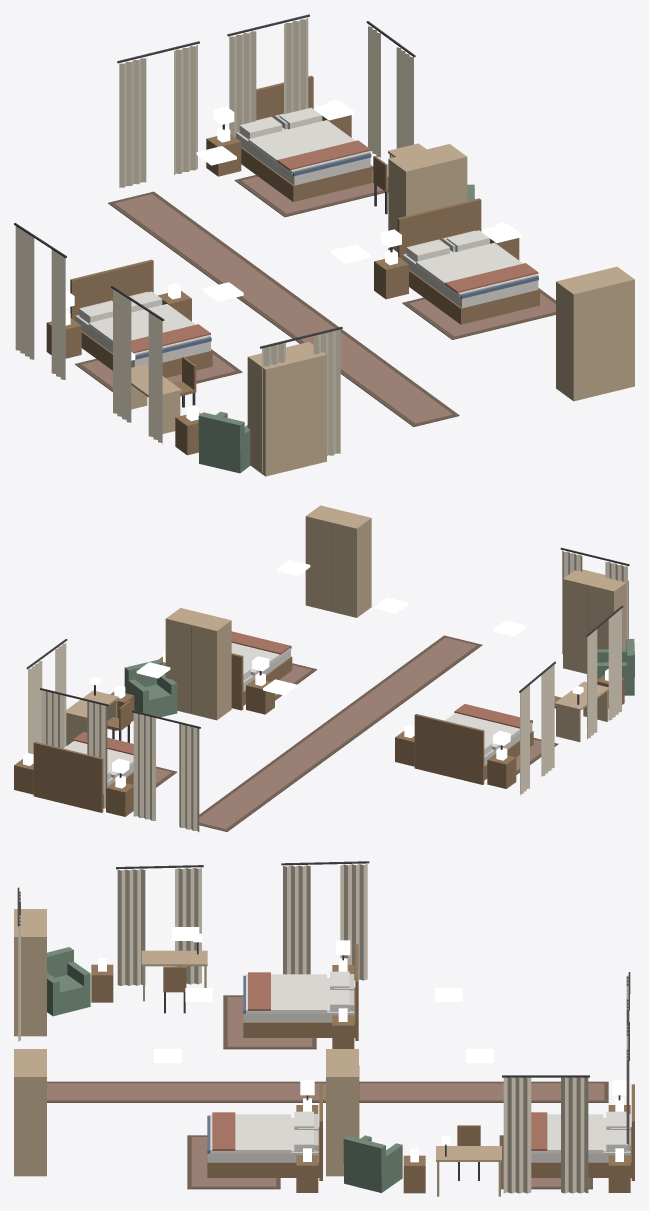
The model's file is fine-s2.glb.
The picture shows the model from 3 angles, top to bottom: view 1: azimuth 30°, elevation 25°; view 2: azimuth 150°, elevation 25°; view 3: azimuth 270°, elevation 25°; orthographic projection. The views are drawn at different scales.
Visible parts, largest first — view 1: soft-s2, dresser.005, dresser.003, bed-frame.005, bed-frame.003, bed-frame.004, dresser.004, lounge-chair.002, writing-desk.002, nightstand.010, nightstand.008, side-table.002 (+3 smaller); view 2: soft-s2, dresser.005, dresser.004, dresser.003, bed-frame.003, bed-frame.004, lounge-chair.003, writing-desk.002, bed-frame.005, writing-desk.003, nightstand.006, lounge-chair.002 (+5 smaller); view 3: soft-s2, dresser.005, dresser.003, dresser.004, bed-frame.003, bed-frame.005, lounge-chair.003, lounge-chair.002, bed-frame.004, writing-desk.003, writing-desk.002, side-table.003 (+6 smaller).
Part boxes in pixels (left/top/right/bottom): soft-s2: left=14, top=14, right=555, bottom=472; dresser.005: left=556, top=266, right=634, bottom=401; dresser.003: left=247, top=342, right=326, bottom=476; bed-frame.005: left=397, top=198, right=539, bottom=324; bed-frame.003: left=70, top=259, right=212, bottom=377; bed-frame.004: left=236, top=75, right=372, bottom=201; dresser.004: left=388, top=144, right=467, bottom=251; lounge-chair.002: left=198, top=411, right=250, bottom=473; writing-desk.002: left=131, top=352, right=181, bottom=433; nightstand.010: left=374, top=249, right=408, bottom=299; nightstand.008: left=206, top=126, right=241, bottom=176; side-table.002: left=175, top=405, right=200, bottom=455; soft-s2: left=26, top=547, right=629, bottom=831; dresser.005: left=305, top=505, right=371, bottom=617; dresser.004: left=165, top=608, right=231, bottom=720; dresser.003: left=563, top=569, right=628, bottom=673; bed-frame.003: left=414, top=714, right=533, bottom=784; bed-frame.004: left=33, top=741, right=133, bottom=812; lounge-chair.003: left=124, top=659, right=177, bottom=717; writing-desk.002: left=554, top=681, right=608, bottom=742; bed-frame.005: left=231, top=646, right=292, bottom=710; writing-desk.003: left=66, top=676, right=118, bottom=745; nightstand.006: left=487, top=747, right=516, bottom=788; lounge-chair.002: left=597, top=639, right=634, bottom=695; soft-s2: left=17, top=861, right=630, bottom=1193; dresser.005: left=14, top=1049, right=46, bottom=1176; dresser.003: left=14, top=909, right=46, bottom=1036; dresser.004: left=326, top=1049, right=359, bottom=1176; bed-frame.003: left=243, top=944, right=358, bottom=1040; bed-frame.005: left=207, top=1084, right=322, bottom=1180; lounge-chair.003: left=343, top=1135, right=402, bottom=1192; lounge-chair.002: left=47, top=947, right=90, bottom=1016; bed-frame.004: left=531, top=1084, right=634, bottom=1180; writing-desk.003: left=436, top=1136, right=501, bottom=1196; writing-desk.002: left=141, top=933, right=207, bottom=1001; side-table.003: left=403, top=1148, right=425, bottom=1193.
Size of the model in its own units: 9.31 by 2.41 by 11.3.
